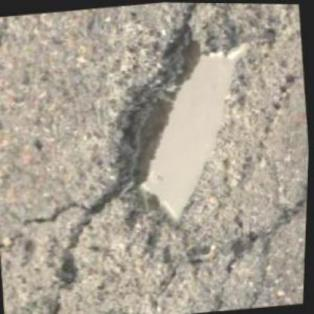Hueco: (90, 5, 276, 242)
